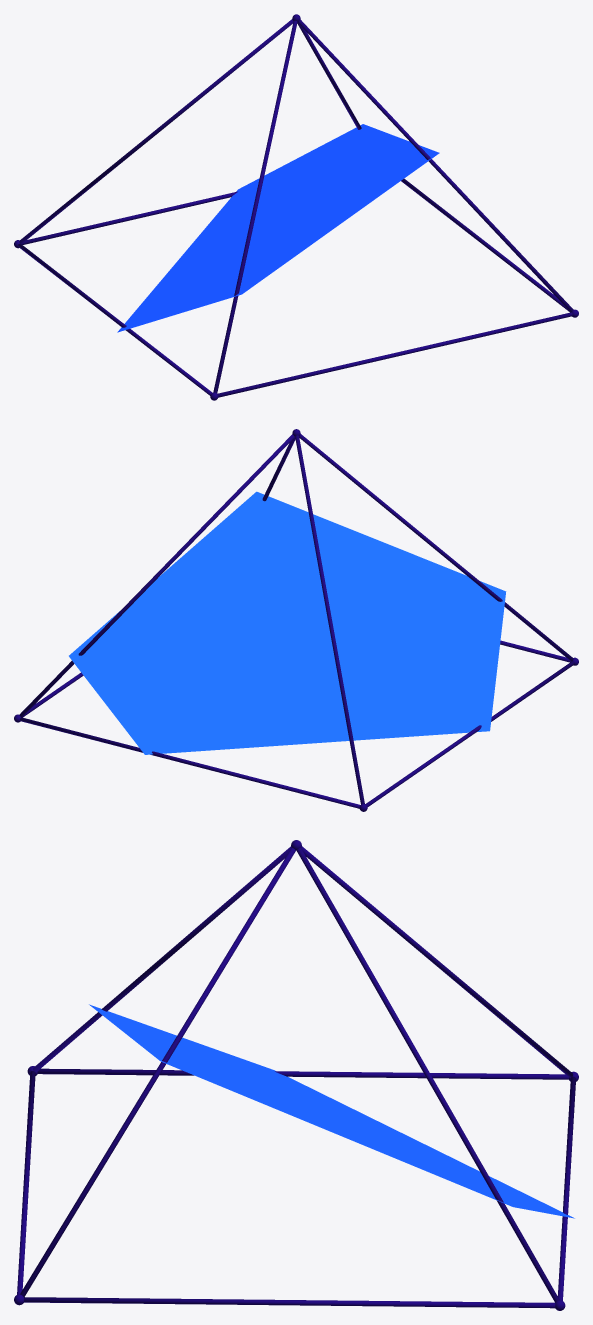
File: матан2.glb
3 views of the same model, one above another, from view 1: azimuth 30°, elevation 25°; view 2: azimuth 150°, elevation 25°; view 3: azimuth 270°, elevation 25° (orthographic). The views are drawn at different scales.
Parts seen in each view (by area): view 1: Plane, Пирамида; view 2: Plane, Пирамида; view 3: Пирамида, Plane.
Boxes of the visible parts, left/top/right/bottom form: Plane: left=117, top=124, right=439, bottom=332; Пирамида: left=14, top=14, right=578, bottom=400; Plane: left=69, top=491, right=506, bottom=754; Пирамида: left=14, top=429, right=578, bottom=811; Пирамида: left=14, top=840, right=578, bottom=1310; Plane: left=89, top=1004, right=574, bottom=1218.
Size of the model in its own units: 2.1 by 1.44 by 2.09.
